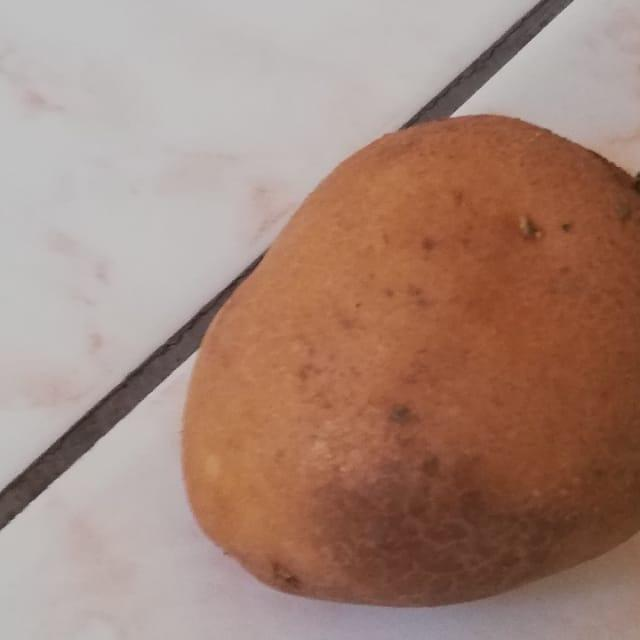potato: (168, 106, 640, 619)
